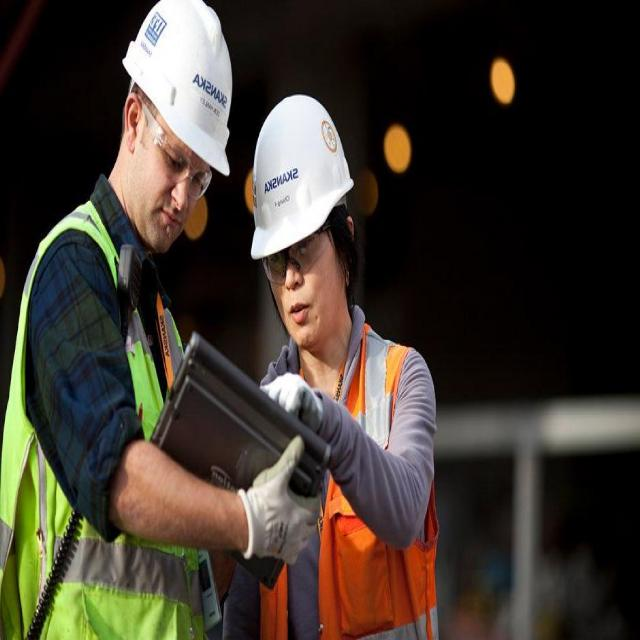Reflective-Jacket: (0, 205, 204, 636), (241, 318, 439, 640)
Safety-Helmet: (120, 5, 235, 180), (246, 87, 357, 263)
